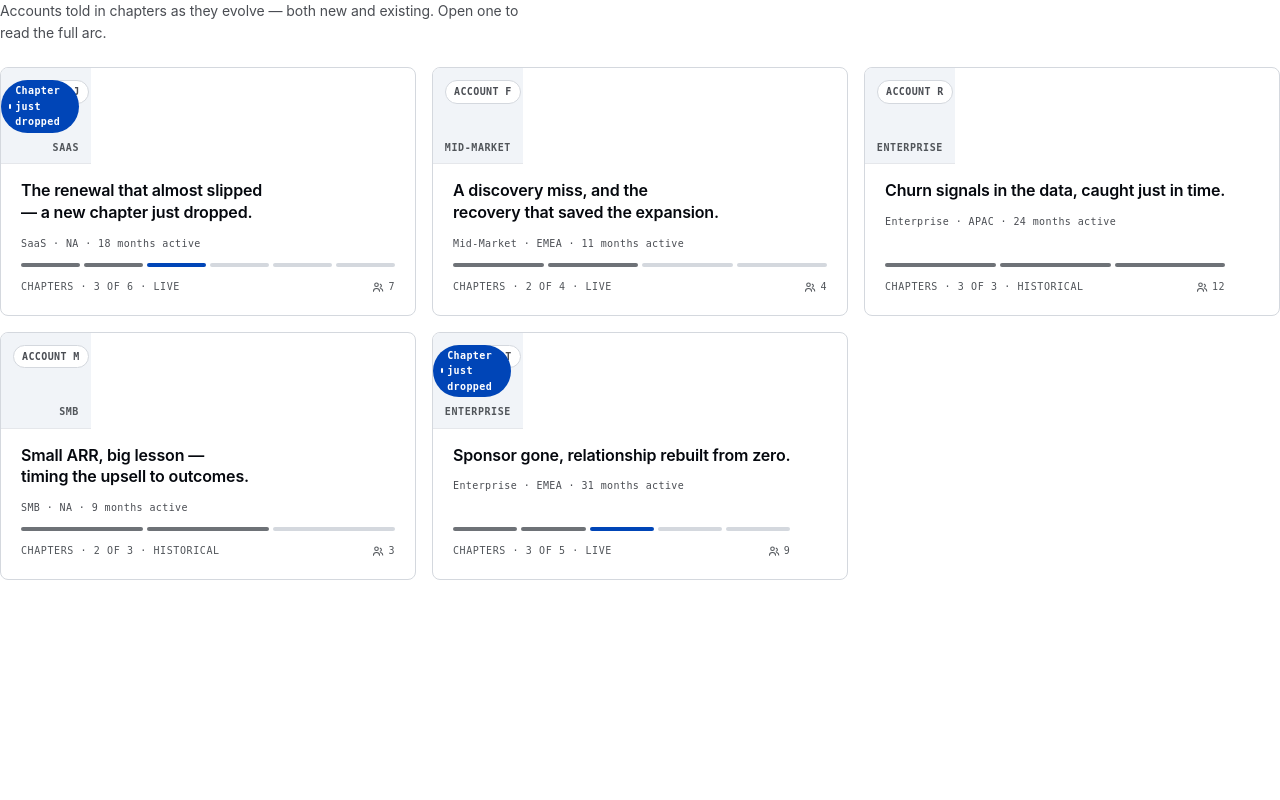
Scenario: library cards and tabs › case studies tab opens and closes its own modal
Click the button that starts with "Account J": {"x": 208, "y": 192} 0,67 -> 416,316
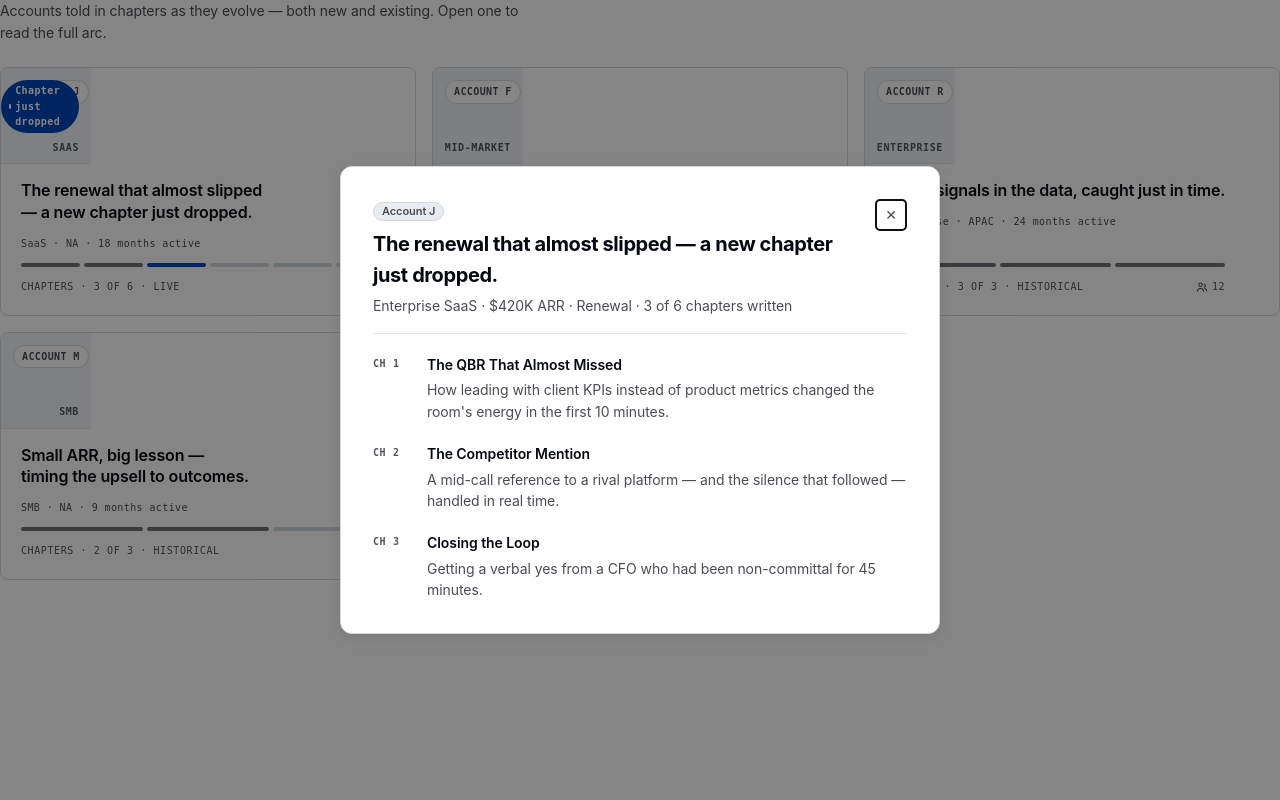
Expected: the dialog shows "The renewal that almost slipped — a new chapter just dropped.", 373,232 -> 832,287
Click the button named "Close": {"x": 891, "y": 215} 875,199 -> 907,231
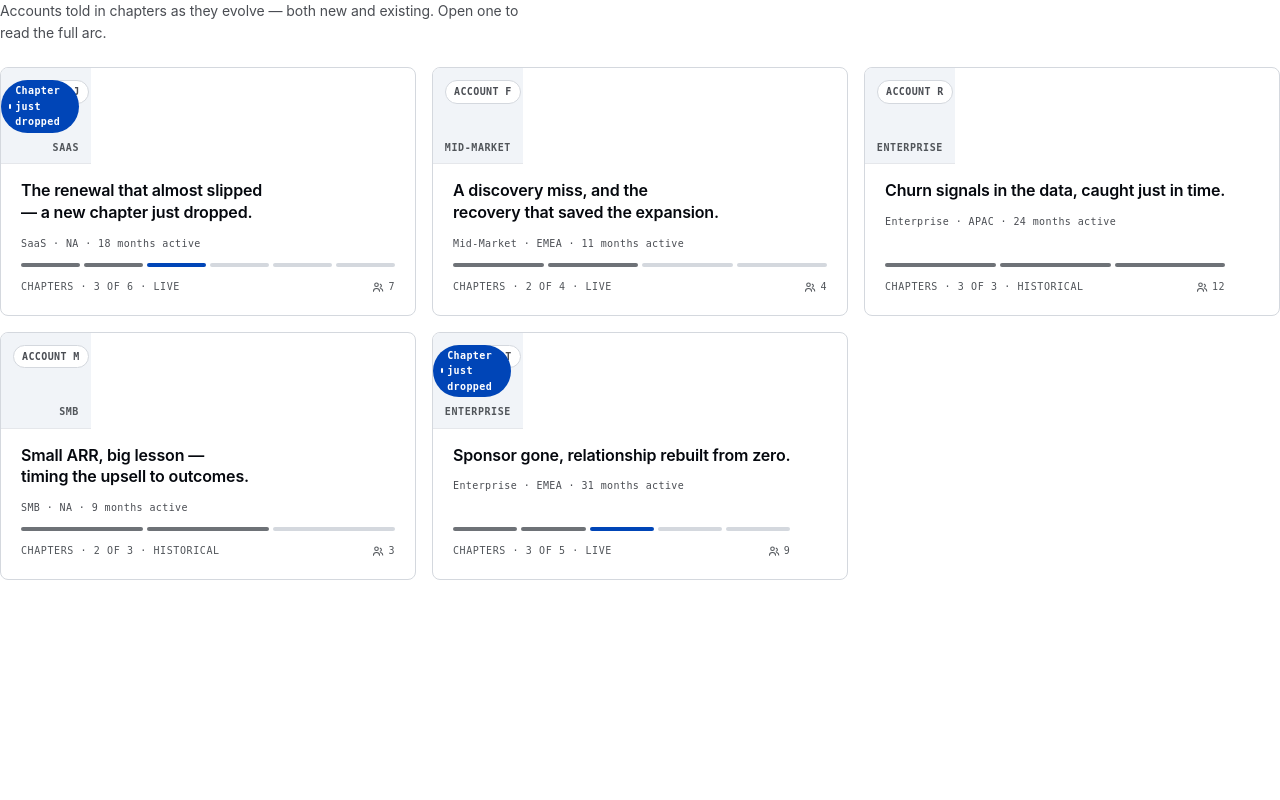
Expected: the dialog is gone
